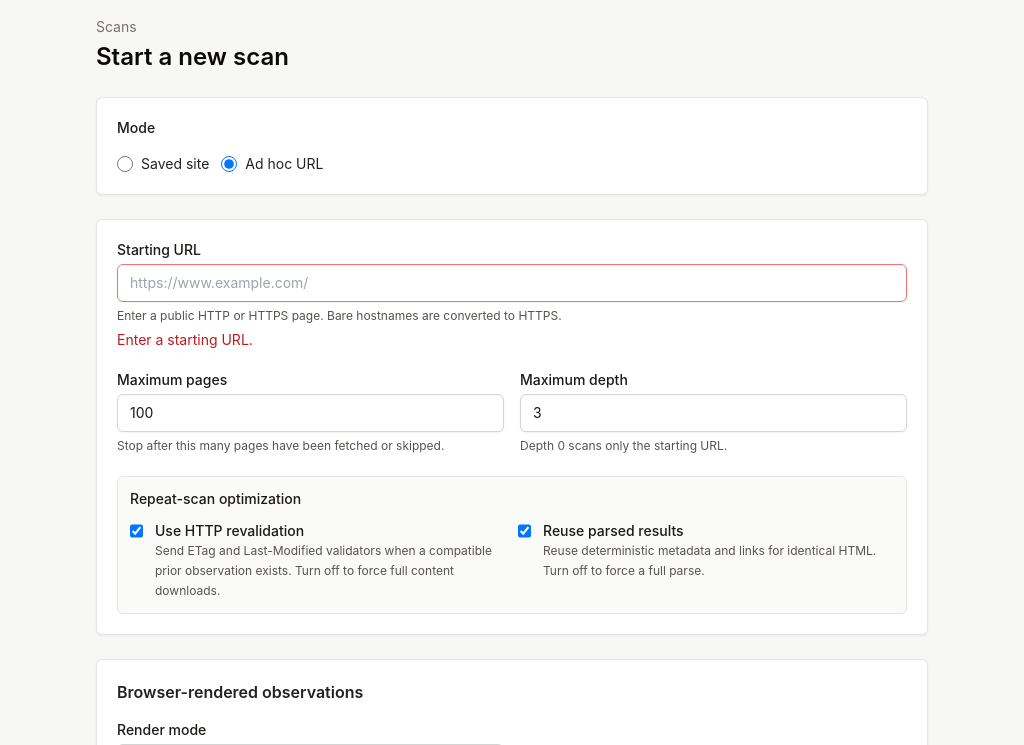
Test: new scan workflow › rejects unsupported schemes and invalid numeric values
Type "ftp://example.com" into the field labelled "Starting URL".
click(512, 283); type("ftp://example.com")  # box [117, 264, 907, 302]
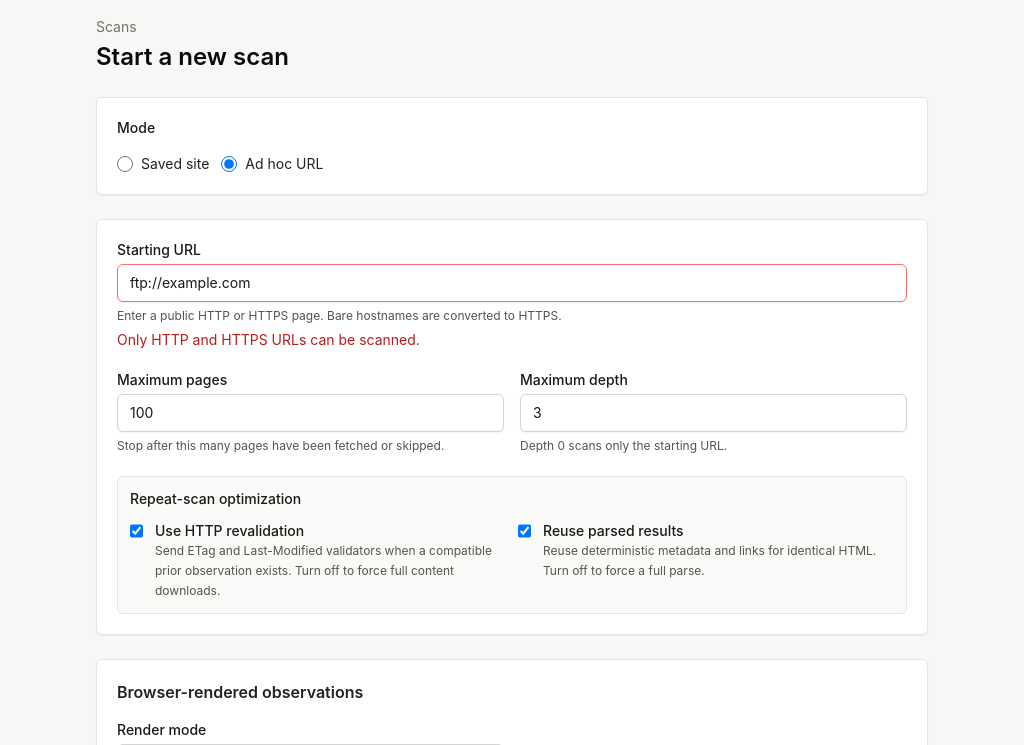
Replace the text in the number field labelled "Maximum pages" with "0" at (310, 413), box [117, 394, 504, 432]
(page scrolled)
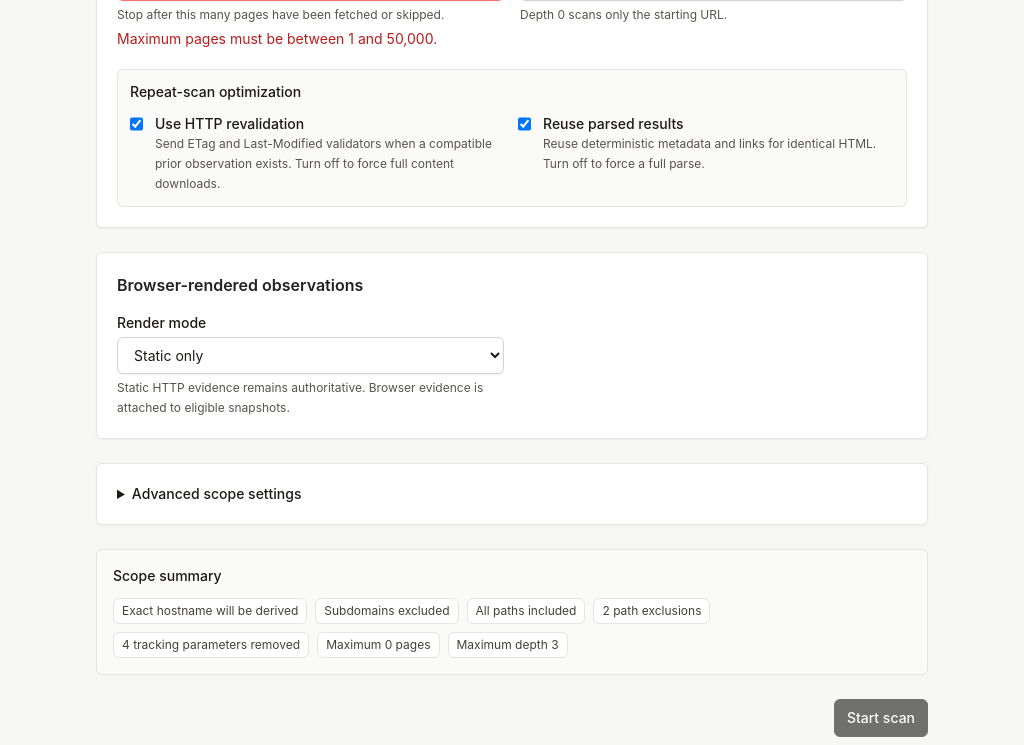
Expected: the button "Start scan" is disabled, [834, 699, 928, 737]
Result: the text "Maximum pages must be between 1 and 50,000." is shown at [117, 30, 437, 47]
